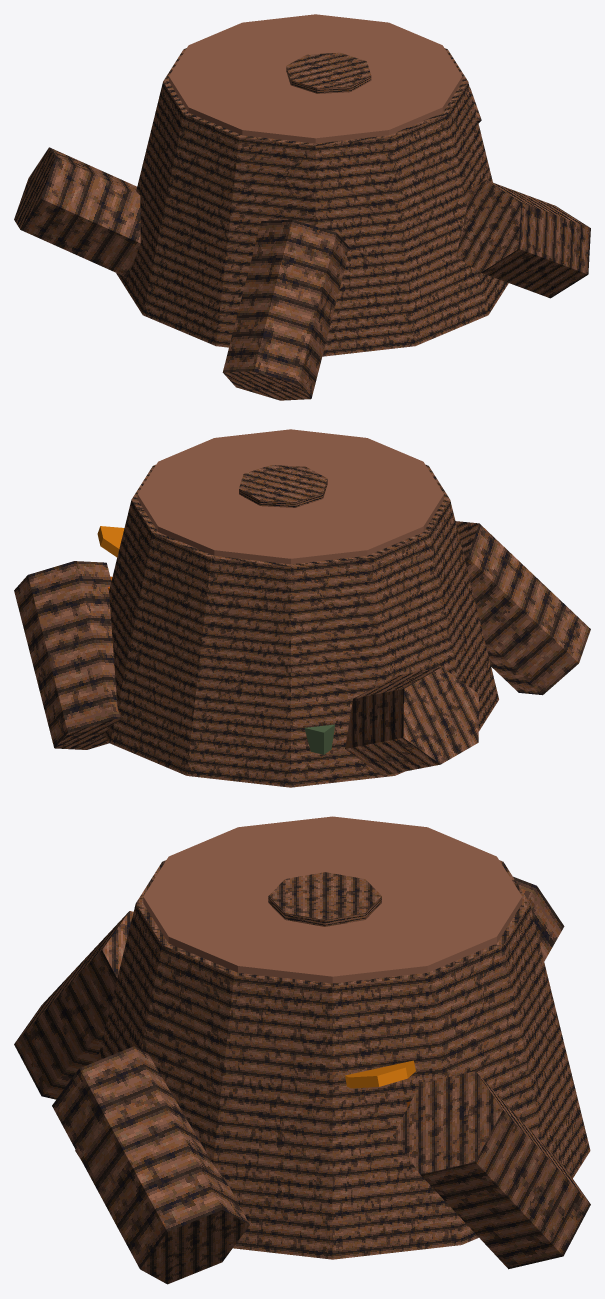
File: tocon_bosque.glb
3 views of the same model, one above another, from view 1: azimuth 30°, elevation 25°; view 2: azimuth 150°, elevation 25°; view 3: azimuth 270°, elevation 25° (orthographic). The views are drawn at different scales.
Visible parts, largest first — view 1: Cone, Cylinder, Cylinder.004, Cylinder.005, Cylinder.003, Cylinder.001; view 2: Cone, Cylinder, Cylinder.002, Cylinder.004, Cylinder.003, Cylinder.001, Cube, Cylinder.006; view 3: Cone, Cylinder, Cylinder.005, Cylinder.002, Cylinder.004, Cylinder.001, Cylinder.003, Cylinder.006.
Boxes of the visible parts, box(x1,y1,x2,y2) form: Cone: box(116, 48, 508, 356); Cylinder: box(169, 14, 462, 143); Cylinder.004: box(222, 219, 347, 400); Cylinder.005: box(456, 180, 590, 298); Cylinder.003: box(14, 147, 140, 277); Cylinder.001: box(286, 52, 371, 93); Cone: box(104, 464, 498, 787); Cylinder: box(137, 429, 443, 564); Cylinder.002: box(14, 561, 120, 749); Cylinder.004: box(455, 521, 590, 695); Cylinder.003: box(345, 667, 478, 775); Cylinder.001: box(239, 465, 327, 507); Cube: box(304, 724, 335, 754); Cylinder.006: box(97, 526, 124, 557); Cone: box(75, 860, 590, 1259); Cylinder: box(143, 816, 522, 983); Cylinder.005: box(52, 1046, 249, 1284); Cylinder.002: box(393, 1071, 590, 1269); Cylinder.004: box(14, 911, 133, 1099); Cylinder.001: box(268, 872, 381, 926); Cylinder.003: box(513, 876, 564, 961); Cylinder.006: box(345, 1060, 415, 1088).
Size of the model in its own units: 1.77 by 0.8713 by 1.52.
Materials: 5 (1 with a texture image).
